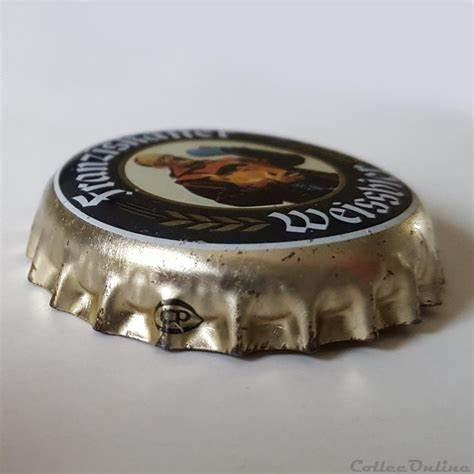metal: (26, 129, 444, 354)
